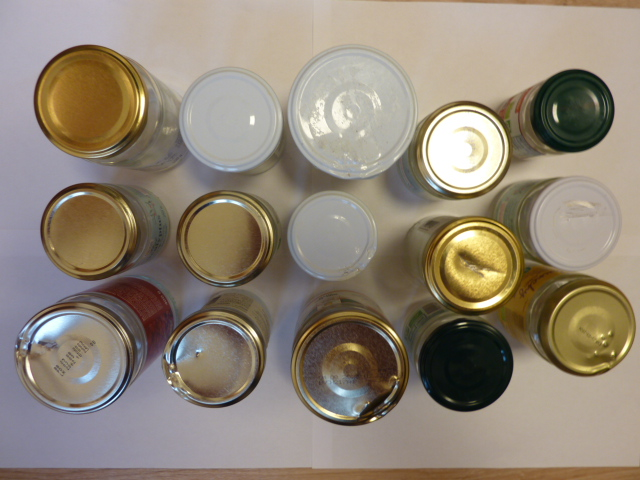damaged: (162, 310, 266, 409)
intact: (40, 185, 137, 279), (178, 191, 275, 285)
